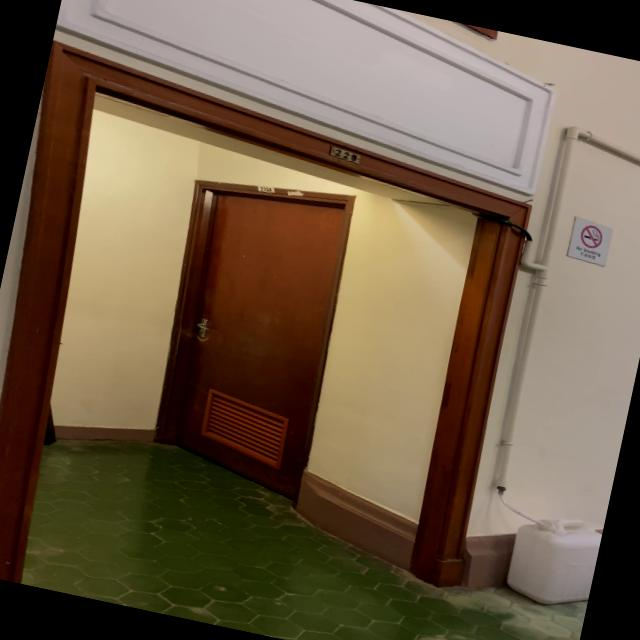room229: (326, 144, 364, 166)
